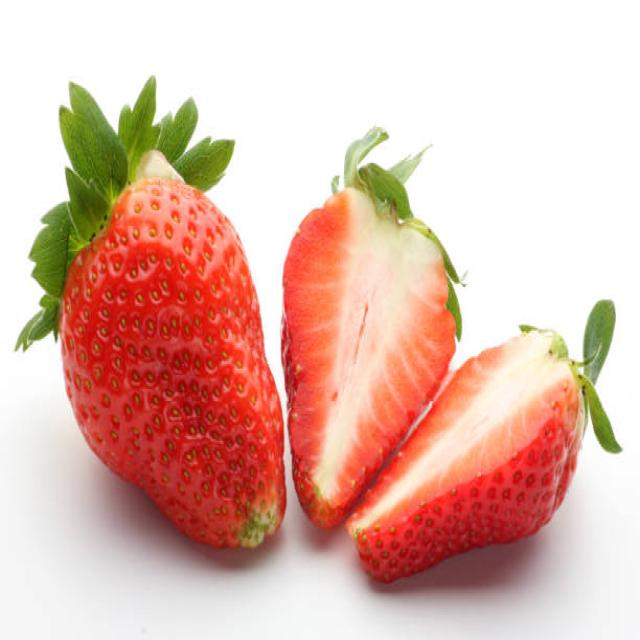Healthy Fruit: (58, 180, 286, 552), (346, 331, 584, 585), (279, 191, 454, 529)
